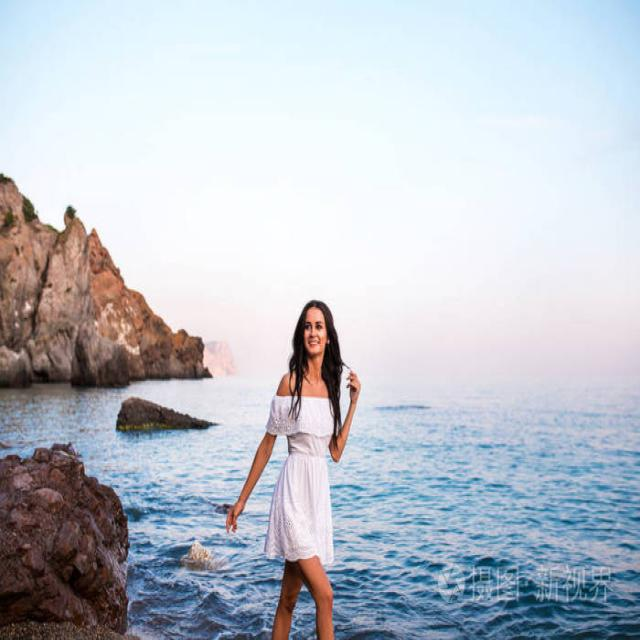reef: (73, 231, 219, 425)
